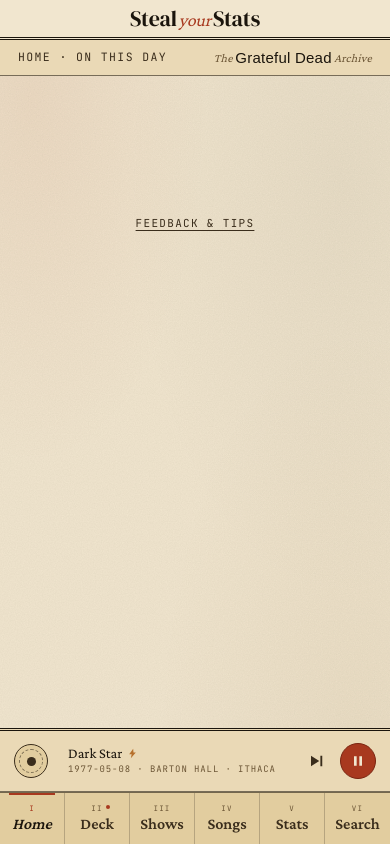
Scenario: MobileShell › DeckScreen › shows the track position in the reel hub
The width and height of the screenshot is (390, 844).
Click the text "Deck" at [97, 824], box [80,813,114,835]
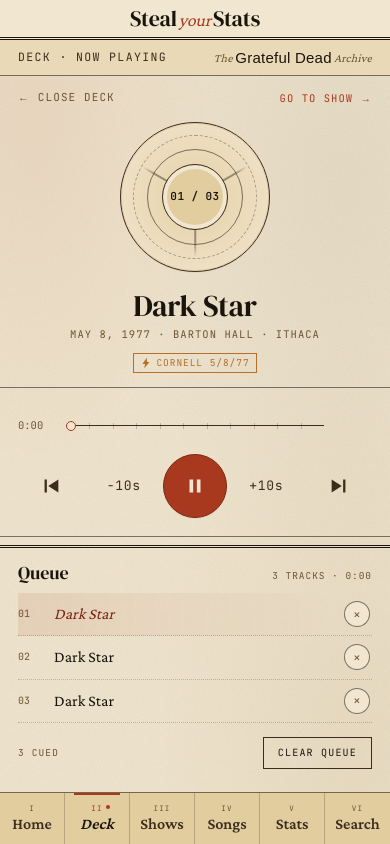
Check: the text with class "hub" reads "01 / 03", box [170,189,220,203]
